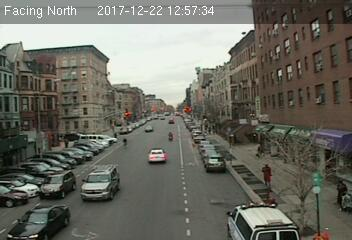car: (6, 200, 69, 240), (79, 165, 121, 201), (38, 171, 77, 198), (204, 154, 224, 172), (148, 148, 166, 163)
pedestrian: (260, 162, 276, 193)
police: (223, 198, 296, 240)
